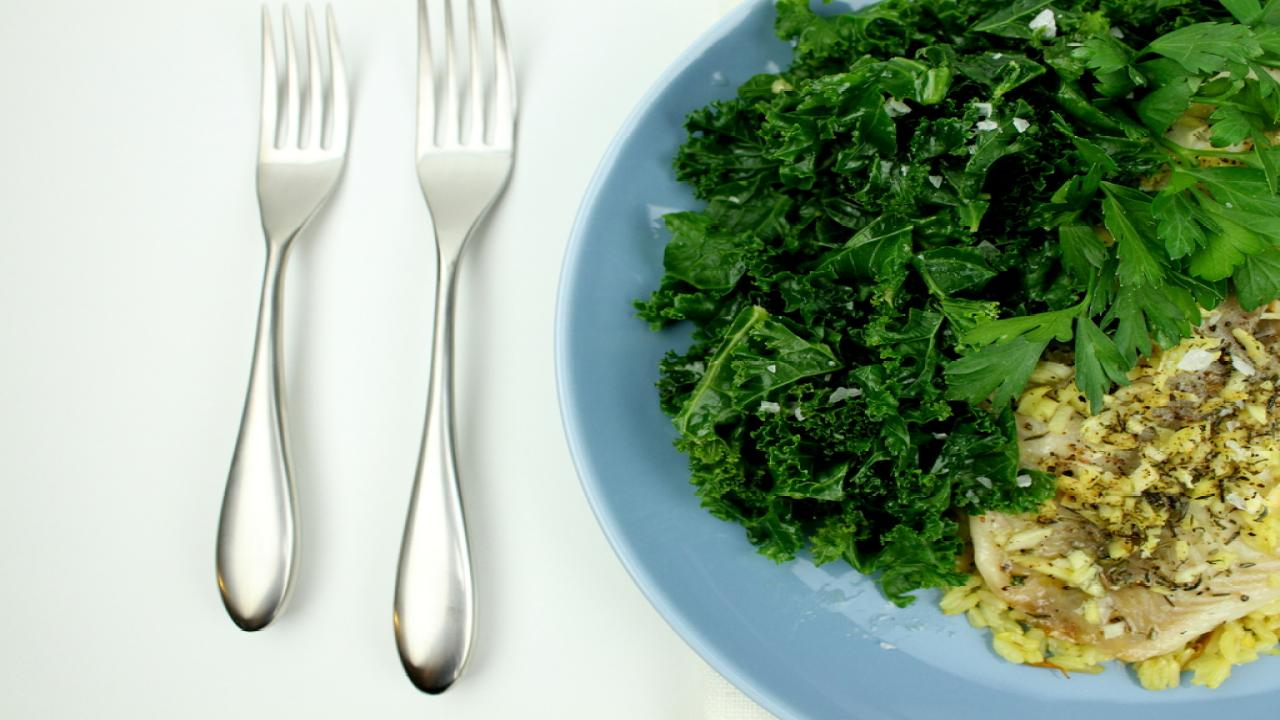fork: (388, 0, 523, 691), (216, 0, 352, 633)
